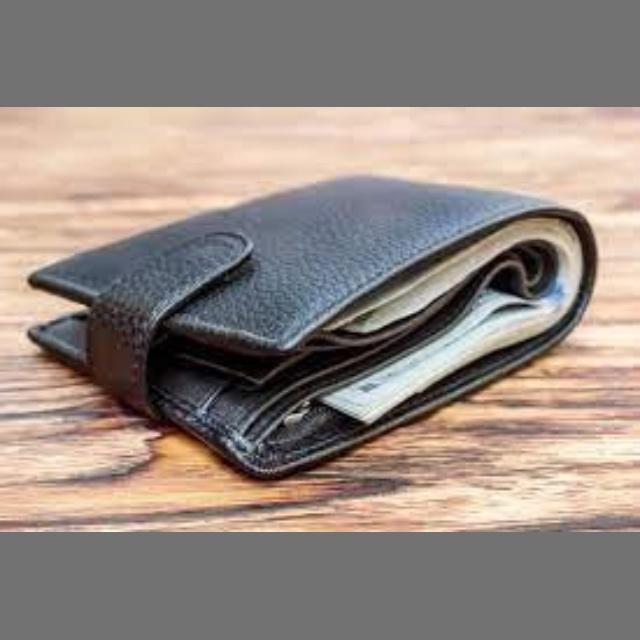Wallet: (26, 140, 634, 500)
